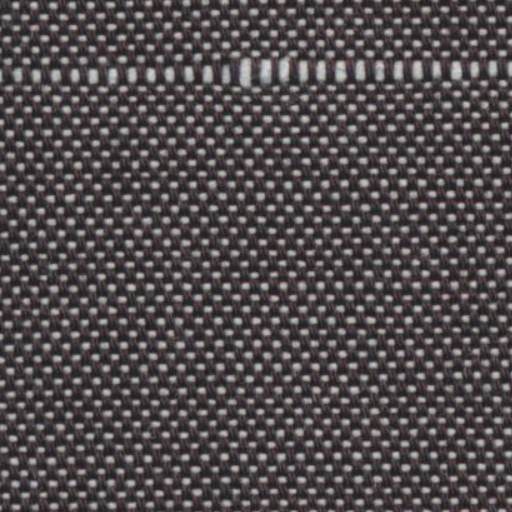DaiSha: (13, 46, 508, 99)
